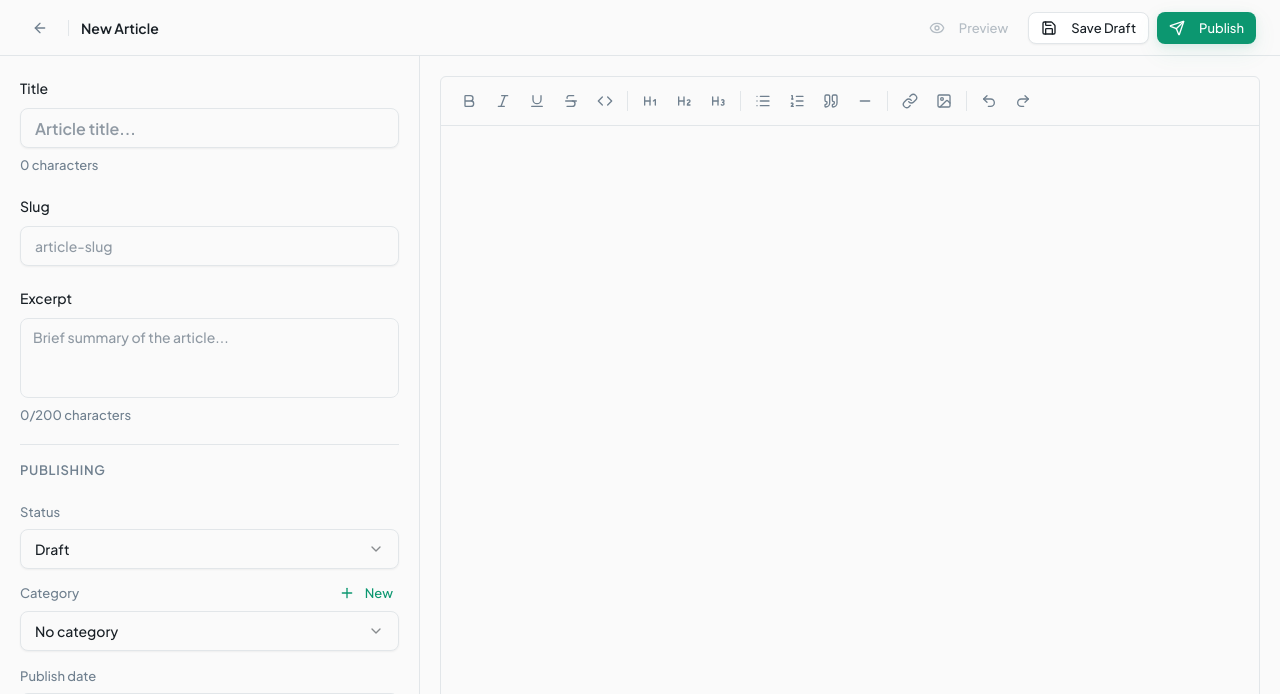
Test case: BlogEditorPage (new article) › generates slug from title for new articles
In the field with placeholder "Article title...": (210, 128) x1=20 y1=108 x2=399 y2=148, type "My New Article"
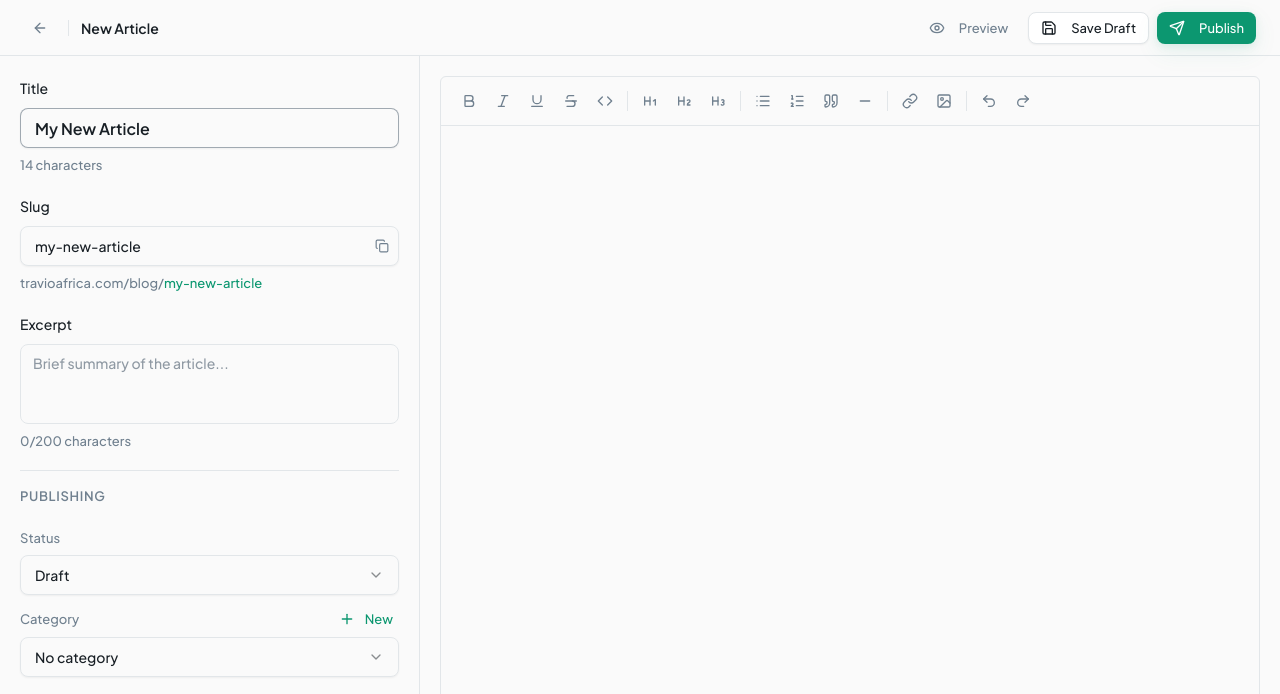
Result: the field with placeholder "article-slug" below "Slug" holds "my-new-article" at x1=20 y1=226 x2=399 y2=266
